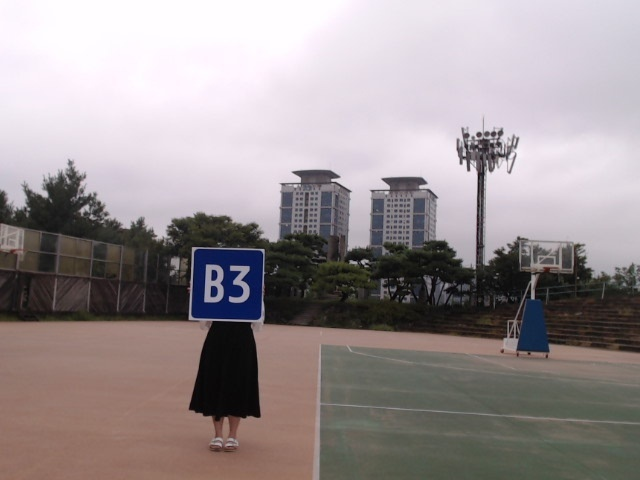delivery_b3: (191, 247, 265, 321)
